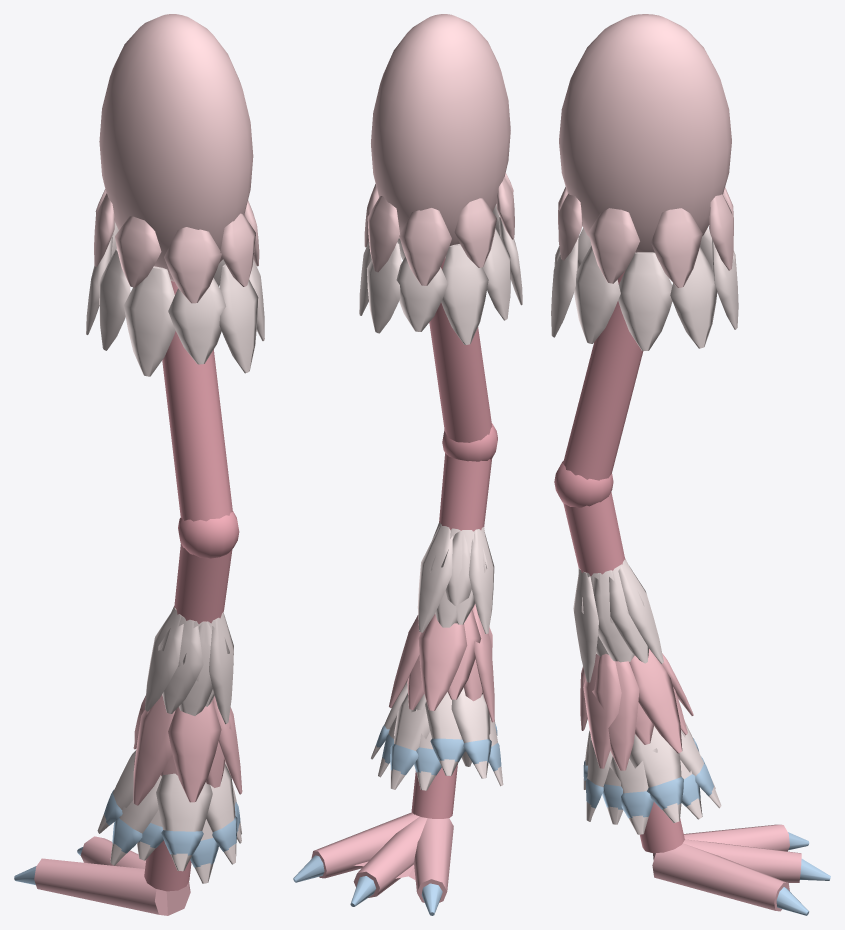
Rendered from FlamingoLegL.glb.
3 renders of one model, left to right at view 1: azimuth 30°, elevation 25°; view 2: azimuth 150°, elevation 25°; view 3: azimuth 270°, elevation 25°, orthographic. The views are drawn at different scales.
Visible parts, largest first — view 1: FlamingoLegL__Cream, FlamingoLegL__CreamWhite, FlamingoLegL__LegPink, FlamingoLegL__PinkPale, FlamingoLegL__Foot, FlamingoLegL__PaleBlue; view 2: FlamingoLegL__Cream, FlamingoLegL__CreamWhite, FlamingoLegL__LegPink, FlamingoLegL__Foot, FlamingoLegL__PinkPale, FlamingoLegL__PaleBlue, FlamingoLegL__Nail; view 3: FlamingoLegL__Cream, FlamingoLegL__CreamWhite, FlamingoLegL__LegPink, FlamingoLegL__PinkPale, FlamingoLegL__Foot, FlamingoLegL__PaleBlue, FlamingoLegL__Nail.
Part boxes in pixels (x1,y1,x2,y2): FlamingoLegL__Cream: (94,14,259,303); FlamingoLegL__CreamWhite: (86,221,264,883); FlamingoLegL__LegPink: (144,281,239,891); FlamingoLegL__PinkPale: (133,695,242,805); FlamingoLegL__Foot: (34,836,190,915); FlamingoLegL__PaleBlue: (104,790,240,867); FlamingoLegL__Cream: (364,14,514,285); FlamingoLegL__CreamWhite: (359,204,522,790); FlamingoLegL__LegPink: (411,258,497,818); FlamingoLegL__Foot: (311,812,453,902); FlamingoLegL__PinkPale: (389,604,494,722); FlamingoLegL__PaleBlue: (376,724,501,775); FlamingoLegL__Nail: (293,855,442,915); FlamingoLegL__Cream: (558,14,733,287); FlamingoLegL__CreamWhite: (551,228,738,834); FlamingoLegL__LegPink: (554,271,684,853); FlamingoLegL__PinkPale: (580,649,693,770); FlamingoLegL__Foot: (652,824,801,911); FlamingoLegL__PaleBlue: (583,738,713,818); FlamingoLegL__Nail: (776,832,830,915).
Size of the model in its own units: 0.7511 by 4.19 by 1.23.
